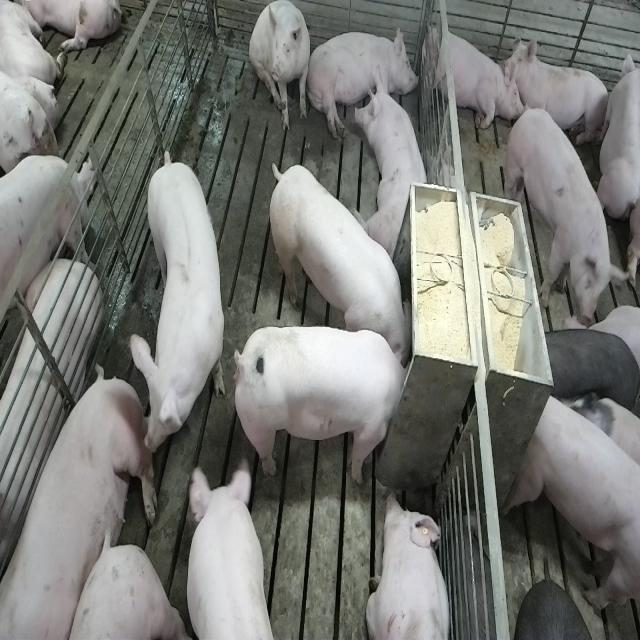Feeding: (264, 160, 412, 362), (228, 323, 410, 484)
Lateral_lying: (4, 368, 161, 640), (0, 256, 100, 613), (306, 24, 420, 140)
Sitting: (249, 2, 312, 134)
Standing: (125, 146, 225, 451), (514, 388, 638, 628), (507, 103, 626, 328), (0, 158, 94, 345), (180, 461, 278, 640), (530, 325, 637, 419)
Sternal_lying: (356, 74, 433, 259), (366, 490, 453, 640), (504, 37, 610, 150), (422, 20, 516, 133)
